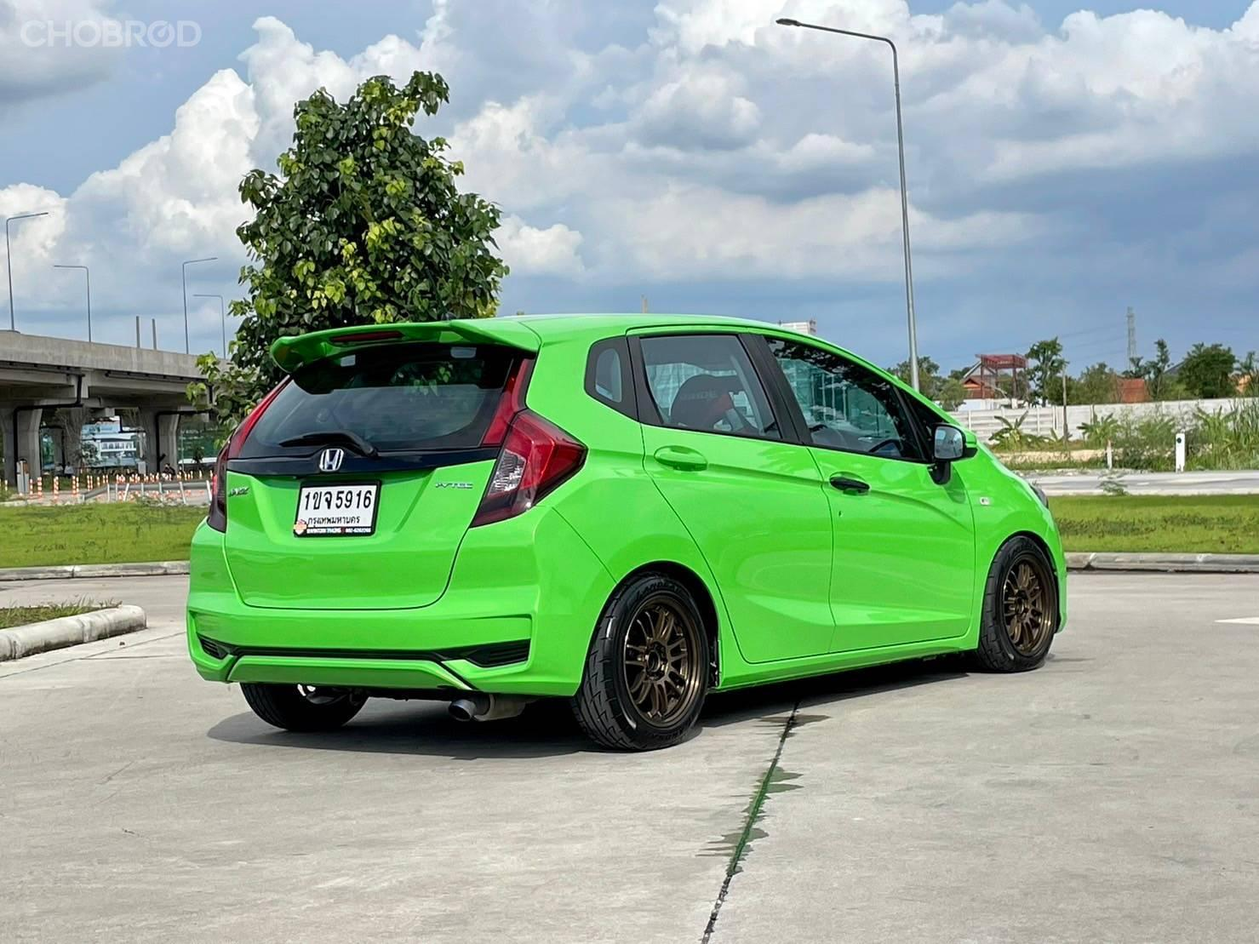license-plate: (289, 471, 381, 545)
